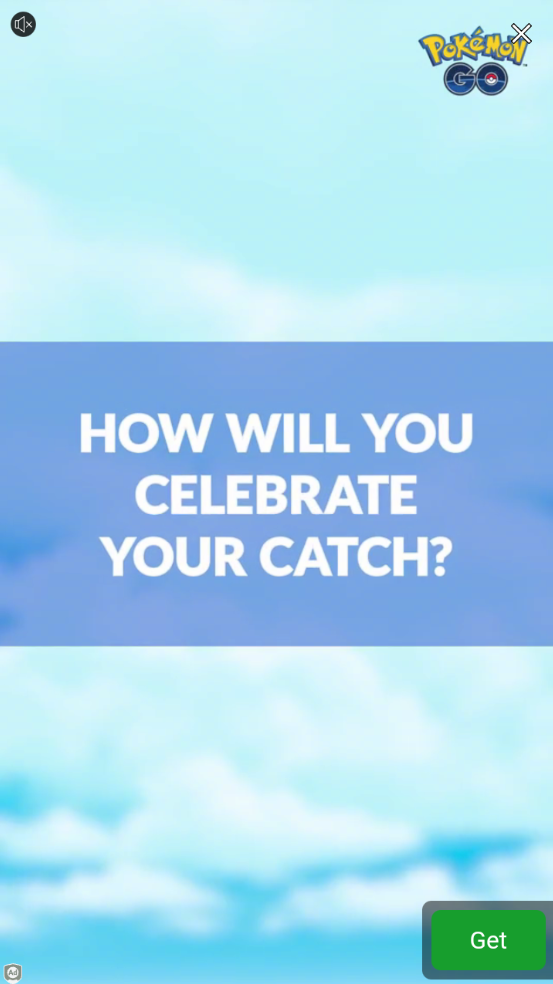close_button: (510, 21, 533, 47)
